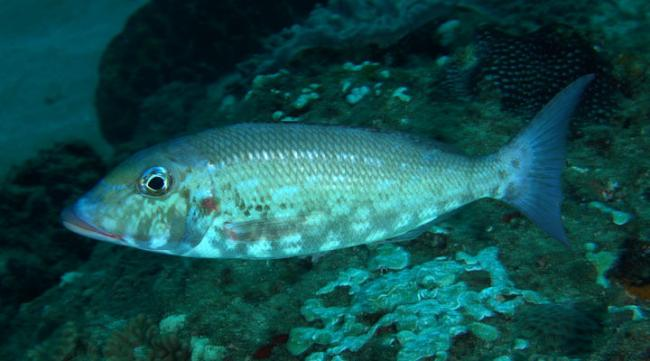fish: (59, 72, 596, 260)
